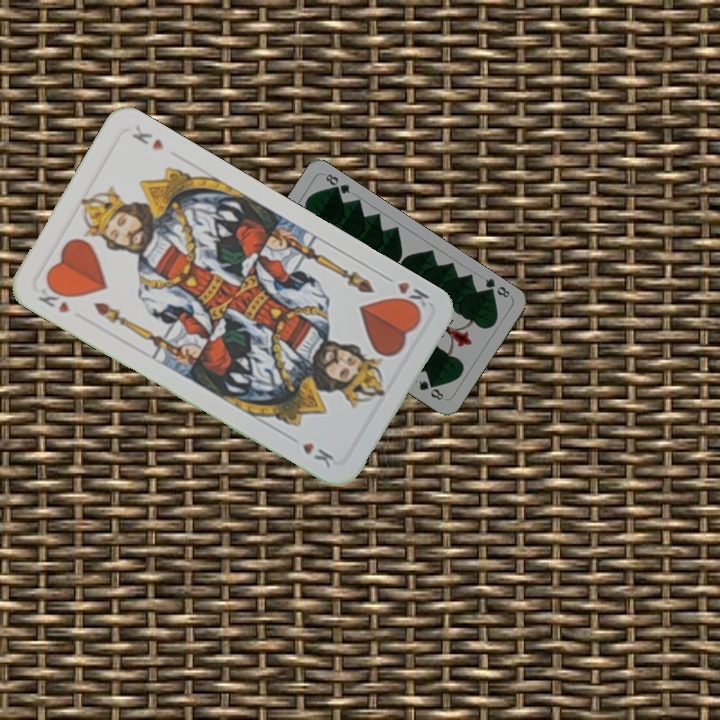G8: (480, 274, 512, 300)
HK: (379, 270, 432, 316), (34, 279, 75, 316)
